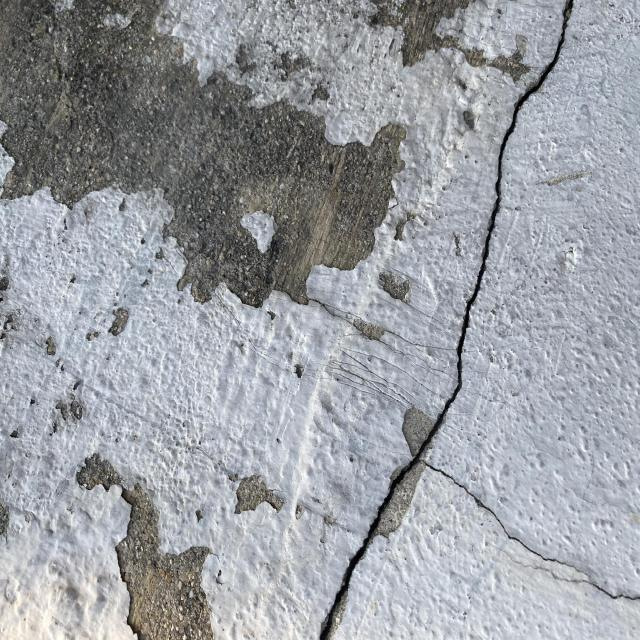SurfaceCrack: (283, 1, 604, 640)
